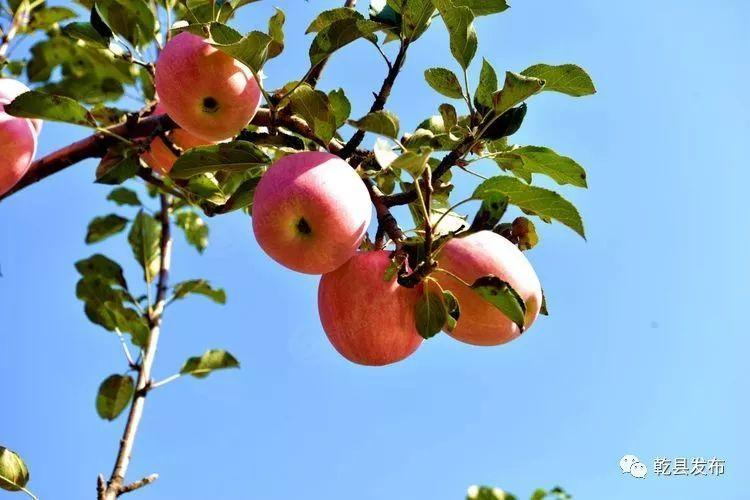apple: (317, 245, 448, 368), (250, 150, 373, 275), (430, 222, 543, 346), (151, 30, 260, 145), (1, 447, 30, 492)
